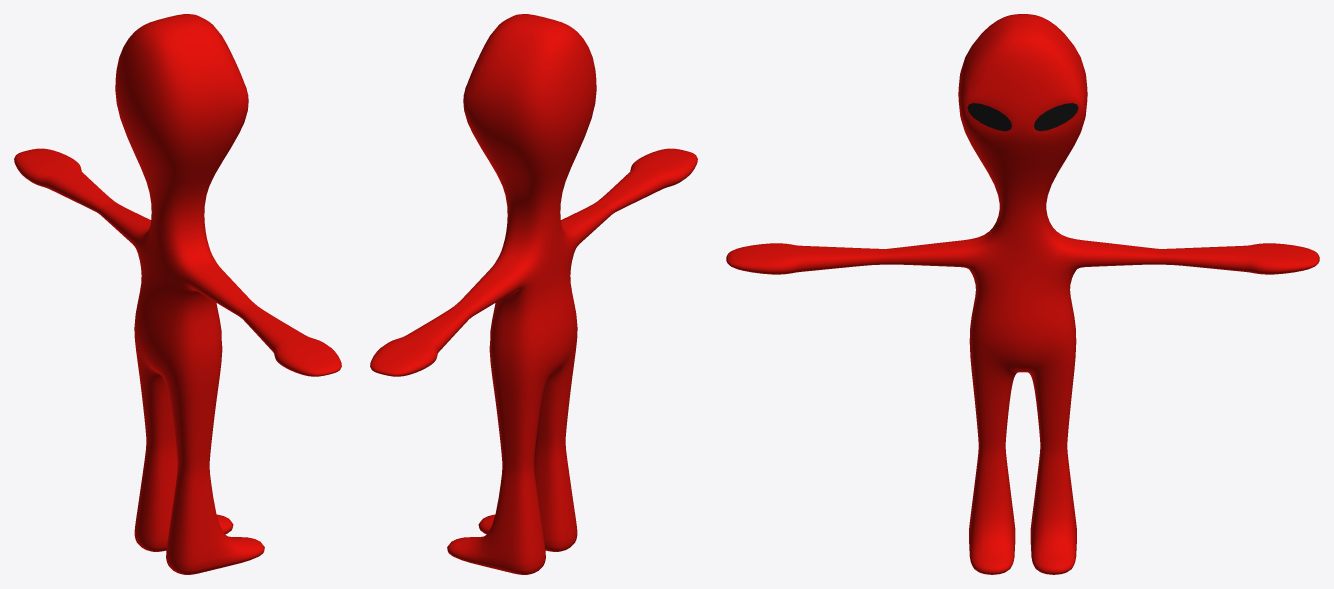
File: Alien.fbx
3 renders of one model, left to right at view 1: azimuth 30°, elevation 25°; view 2: azimuth 150°, elevation 25°; view 3: azimuth 270°, elevation 25°, orthographic. The views are drawn at different scales.
Visible parts, largest first — view 1: Body; view 2: Body; view 3: Body, Eyes.
Boxes of the visible parts, x1,y1,x2,y2 form: Body: (14, 14, 341, 574); Body: (370, 14, 697, 574); Body: (726, 14, 1319, 574); Eyes: (967, 103, 1078, 131).
Bounding box in the file's own units: 296 × 1309 × 1341.
